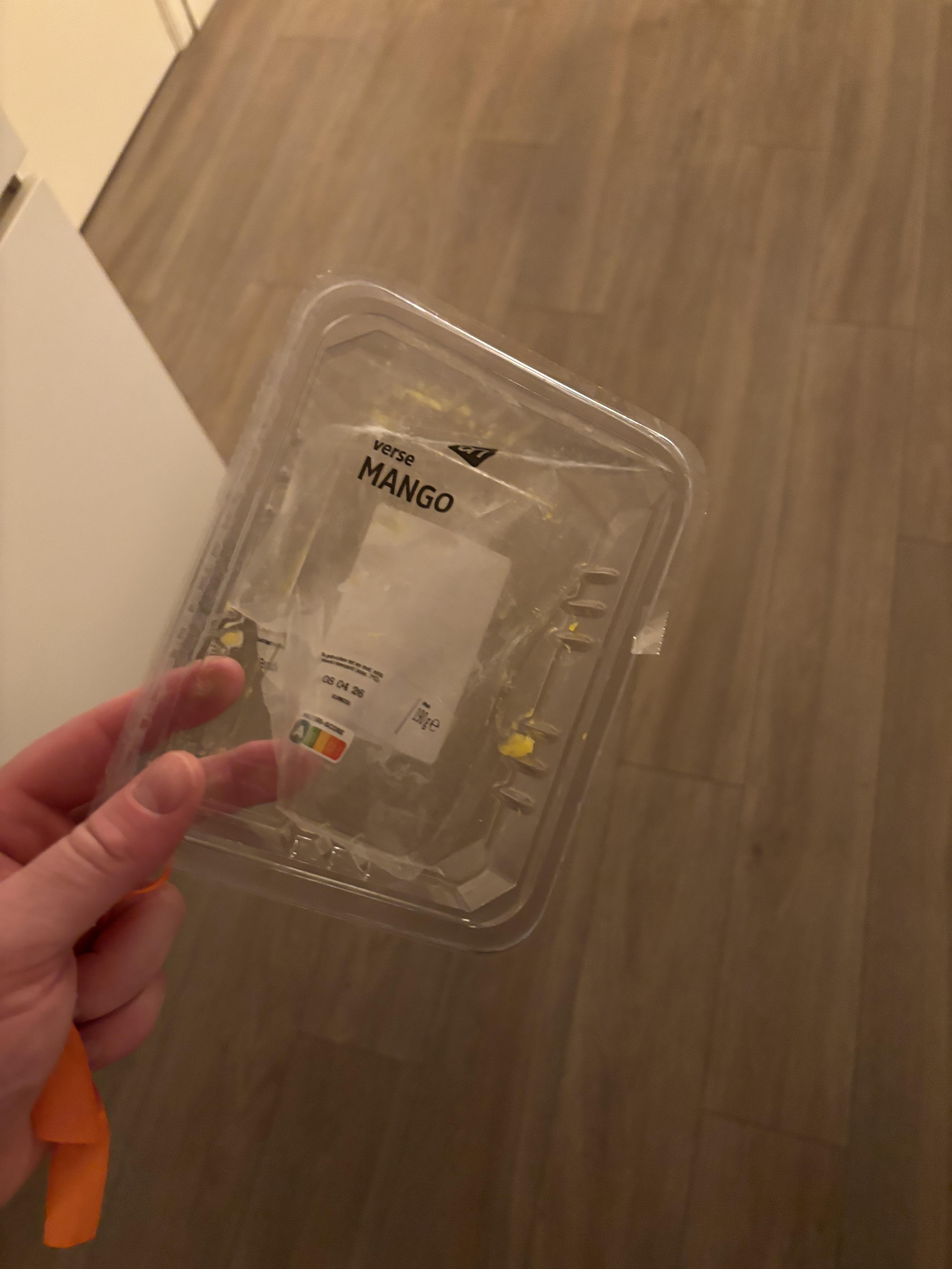Plastic: (76, 271, 706, 960)
